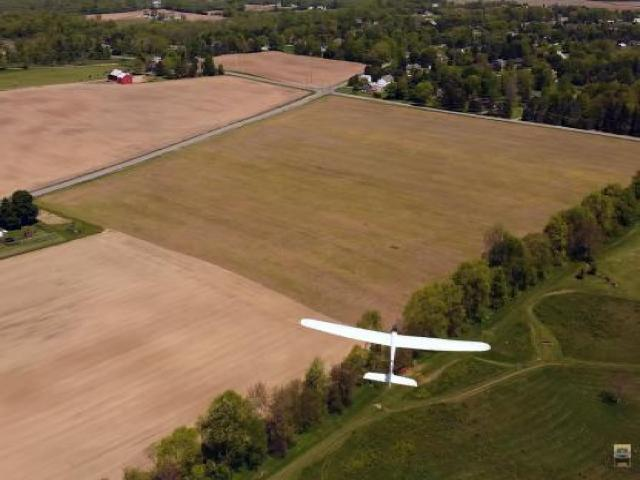uav: (294, 307, 498, 401)
